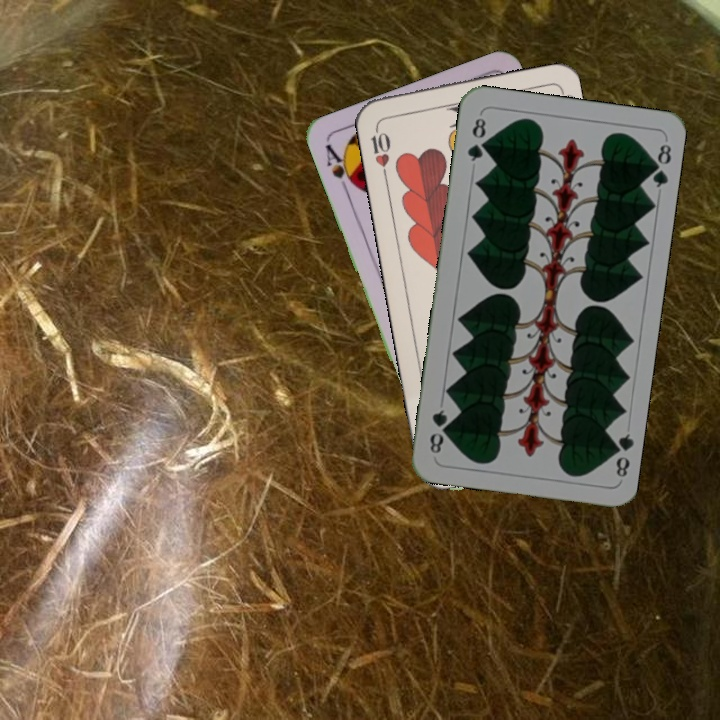G8: (606, 429, 635, 480), (463, 113, 489, 164)
H10: (366, 120, 393, 179)
SA: (321, 140, 360, 196)
